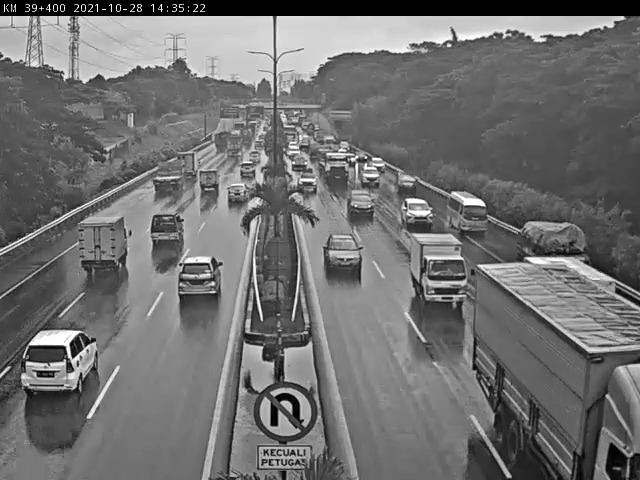big truck: (473, 258, 640, 480), (319, 151, 353, 185), (225, 132, 245, 160), (212, 128, 229, 151)
car: (18, 322, 109, 404), (169, 251, 239, 305), (315, 230, 374, 280), (145, 212, 192, 253), (398, 195, 442, 233), (345, 190, 381, 225), (392, 170, 427, 198), (196, 168, 223, 199), (298, 170, 323, 195), (223, 185, 249, 208), (359, 168, 382, 189), (238, 160, 260, 179), (369, 156, 390, 173)
small bus: (446, 190, 496, 238)
small truck: (405, 230, 470, 311), (519, 252, 625, 291), (73, 214, 133, 282), (522, 212, 592, 261), (151, 154, 187, 199)
